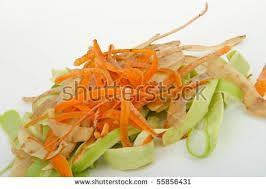Organic: (3, 0, 261, 168)
